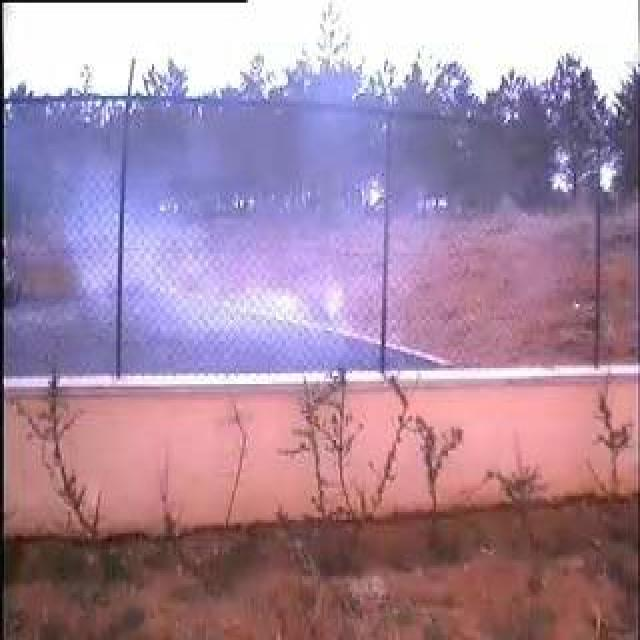Smoke: (120, 99, 386, 378)
